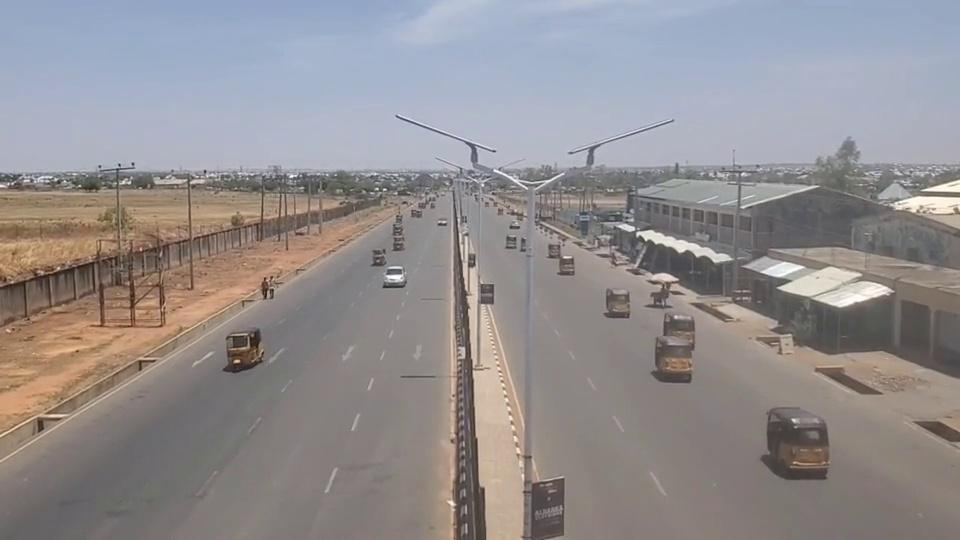keke: (765, 405, 830, 477), (224, 326, 264, 371)
